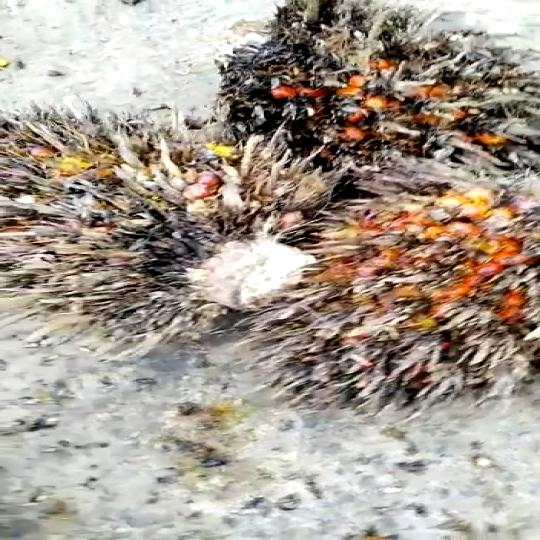terlalu masak: (0, 122, 361, 344), (276, 176, 540, 415), (236, 14, 539, 172)
